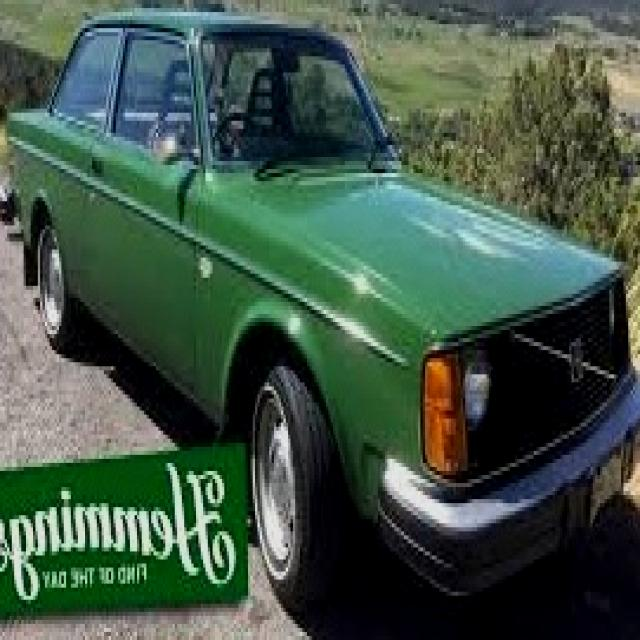green: (4, 10, 638, 615)
